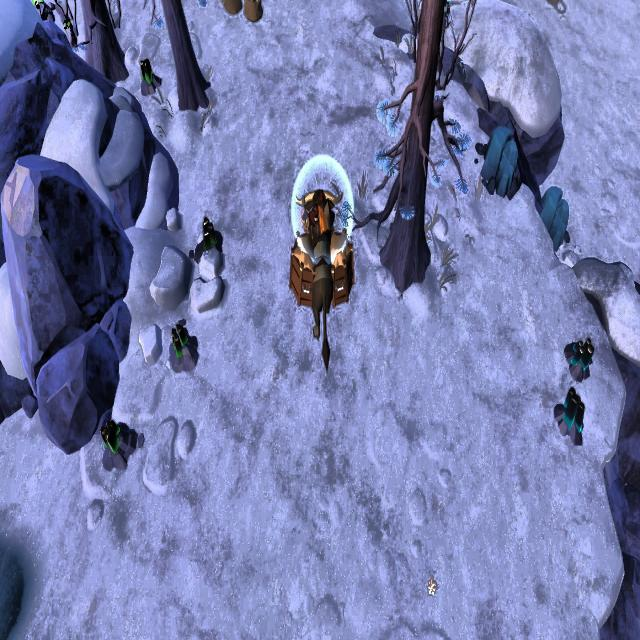ore_t3: (96, 418, 120, 456), (170, 321, 188, 358), (200, 213, 216, 253), (140, 56, 154, 85)
ore_t4: (562, 384, 586, 430), (571, 332, 594, 372)
rock_t4: (478, 122, 517, 197), (538, 182, 570, 256)
